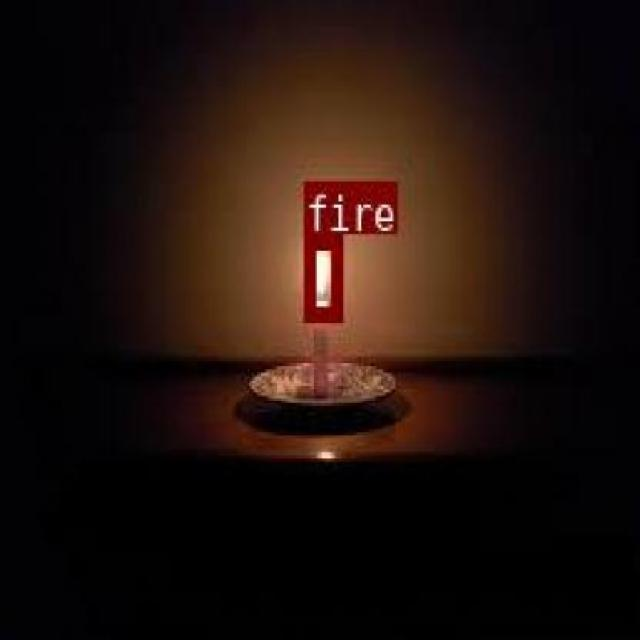fire: (302, 234, 340, 318)
